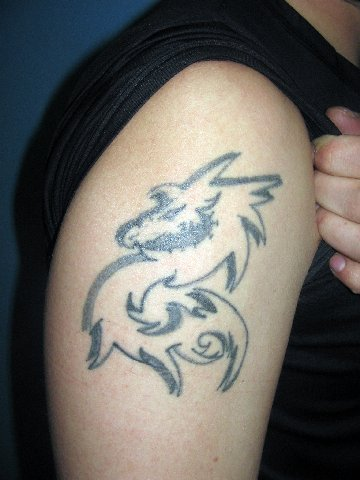tatu6_drakon: (79, 149, 287, 406)
